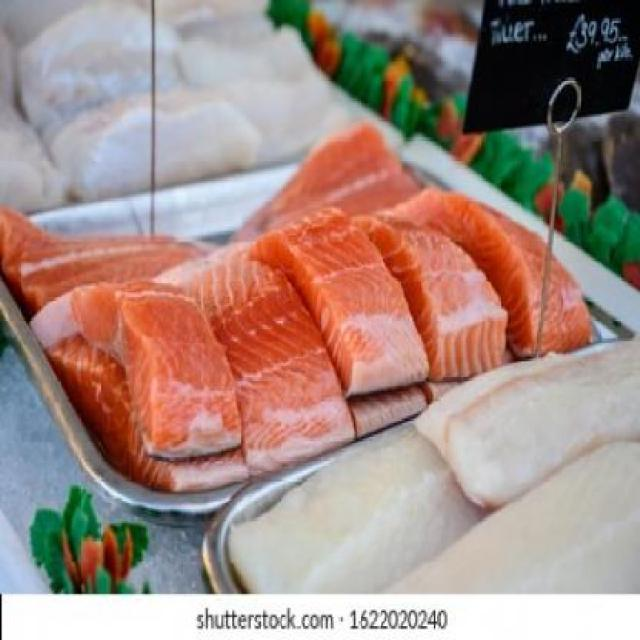salmon: (4, 135, 426, 291), (152, 249, 357, 457), (246, 190, 435, 408), (399, 166, 596, 347), (69, 263, 243, 460), (348, 203, 506, 382)
